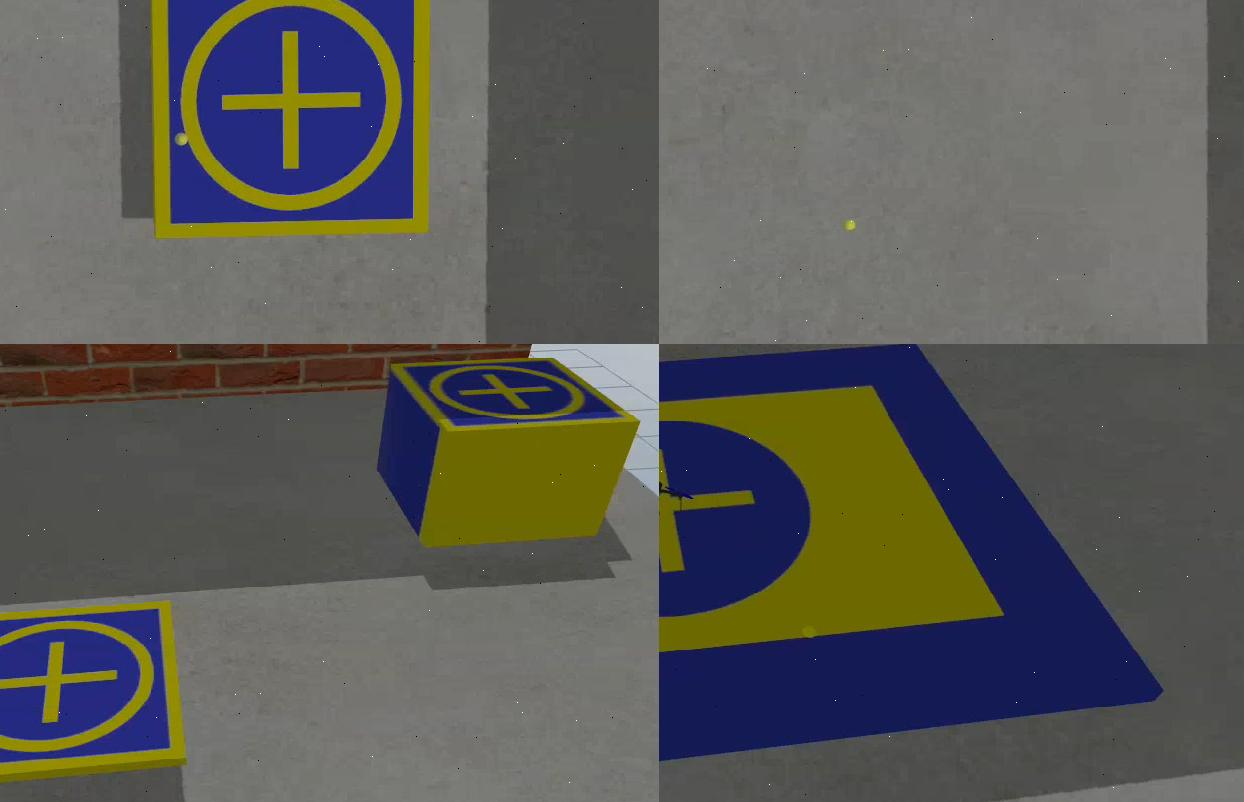large_base: (660, 345, 1160, 802)
small_base: (150, 1, 435, 243), (1, 601, 191, 795), (390, 356, 644, 437)
